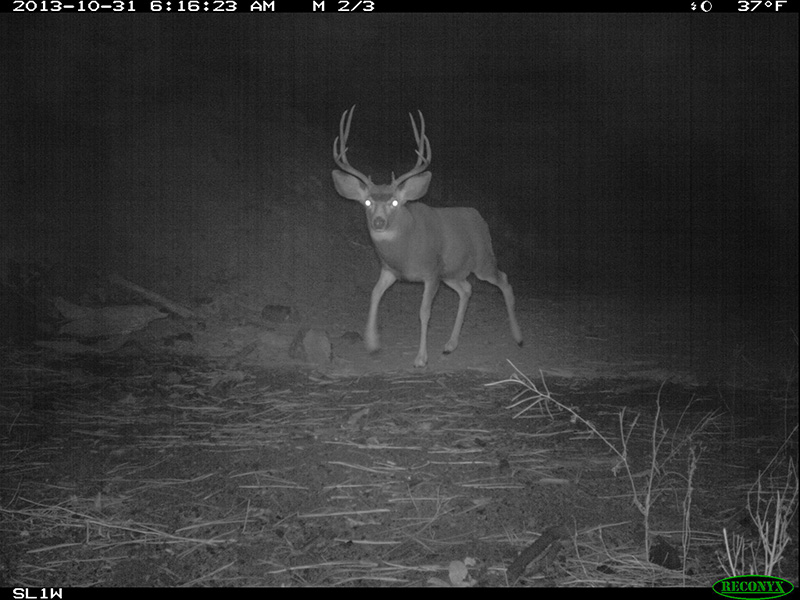cervo: (317, 100, 535, 362)
